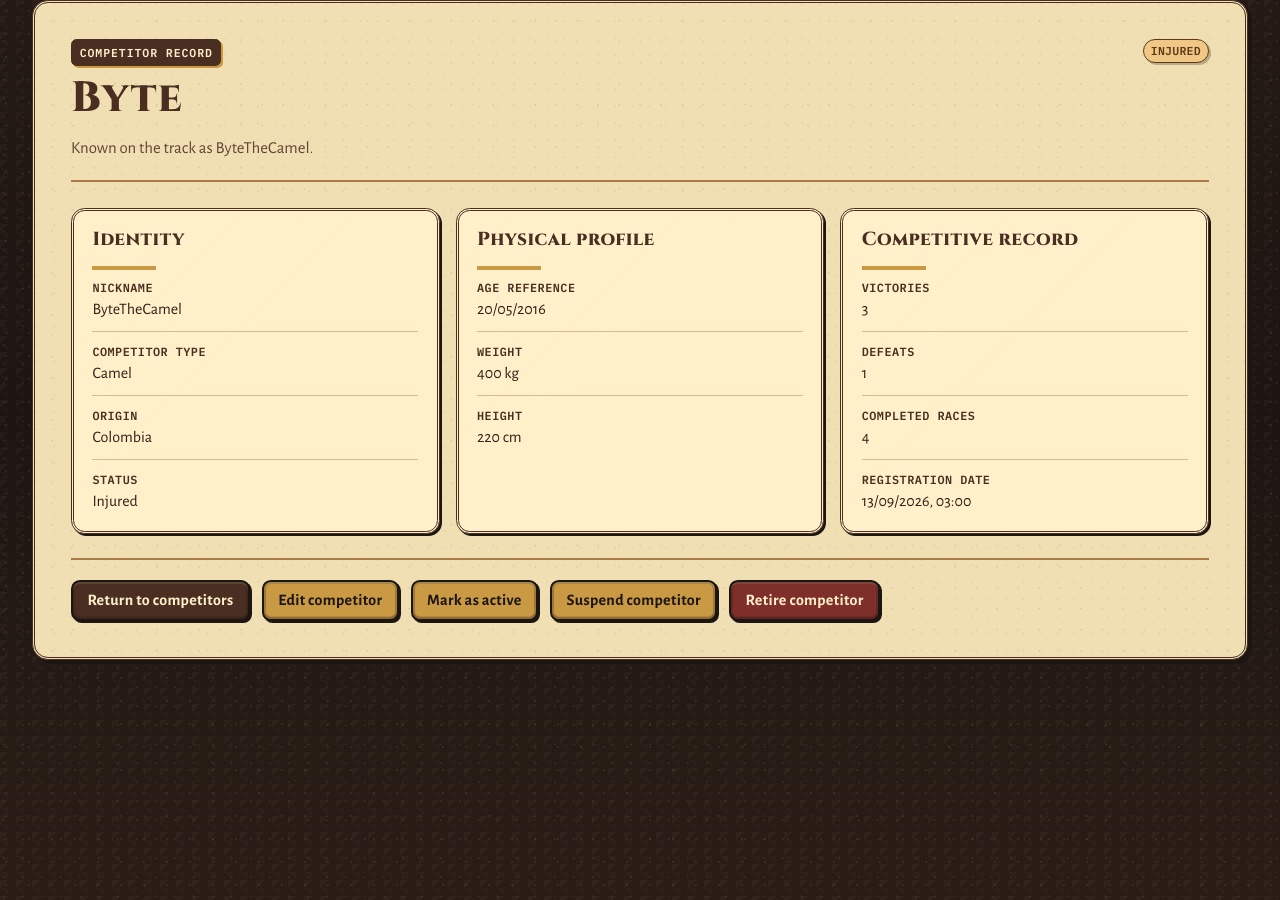
CompetitorDetailPage › keeps dialog open and shows conflict errors
Click the button "Mark as active": (474, 600) [411,580,538,621]
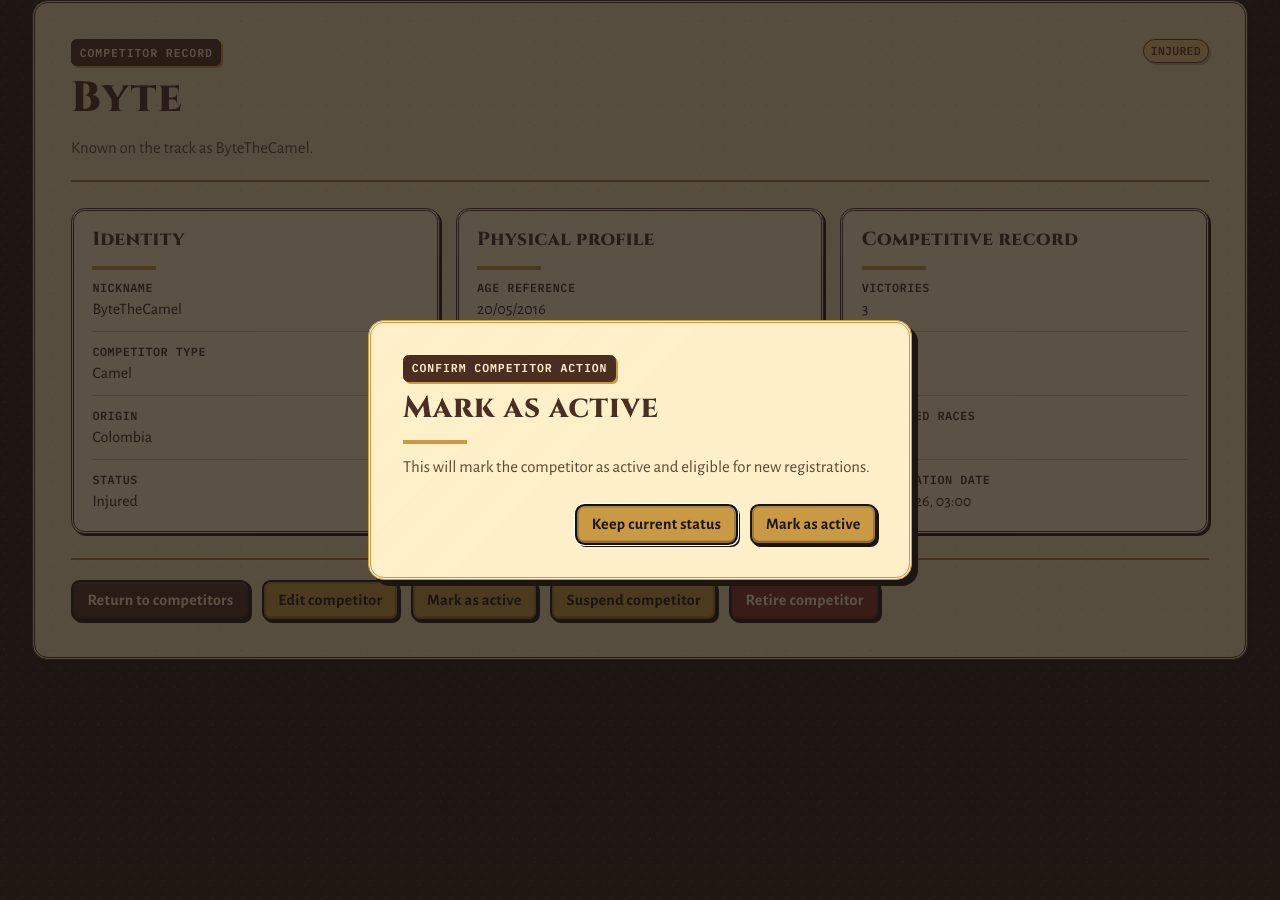
Click the button "Mark as active": (813, 525) [750,504,877,545]
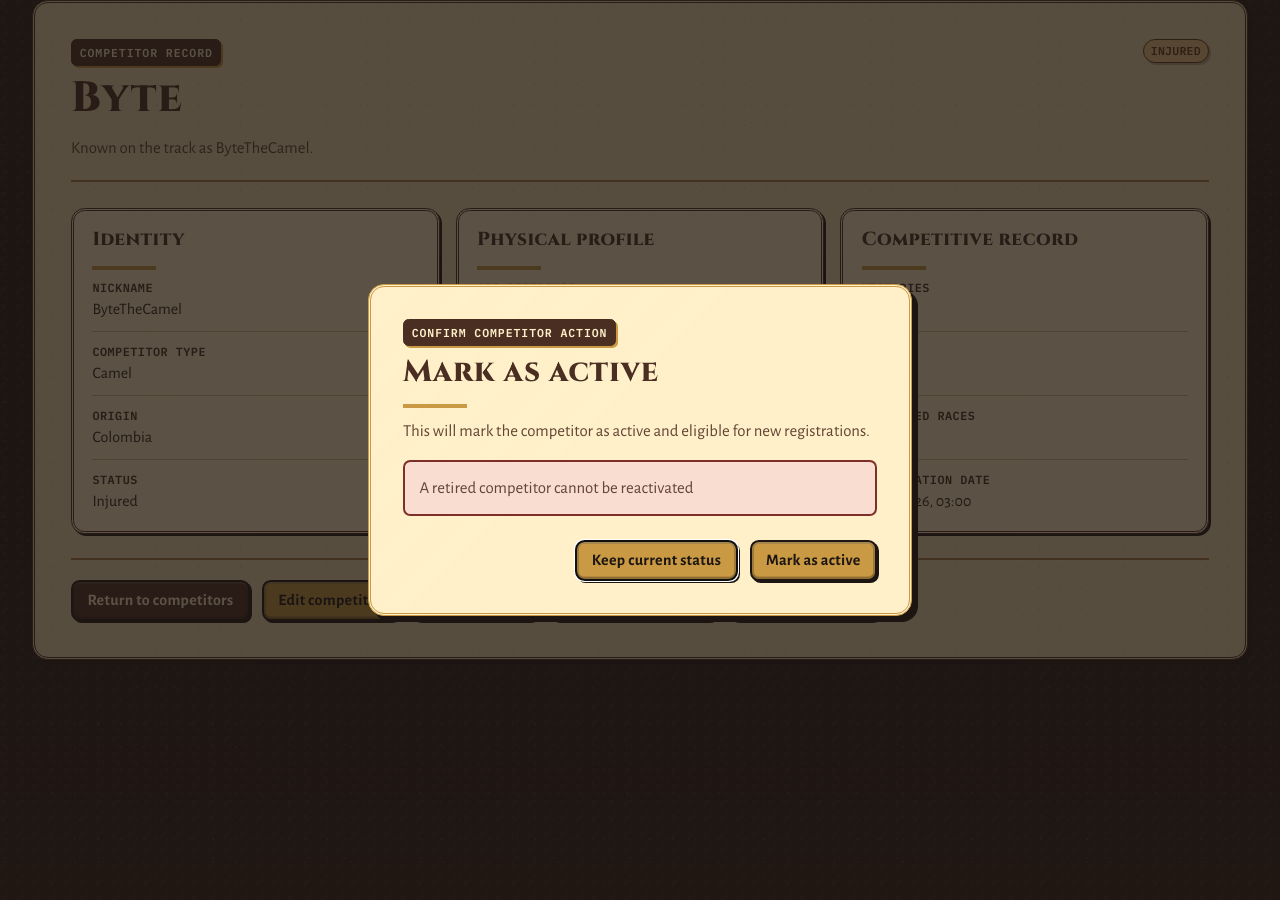
Expected: the dialog is shown, [368,284,912,616]
Expected: the text "A retired competitor cannot be reactivated" is shown, [419,480,693,496]
